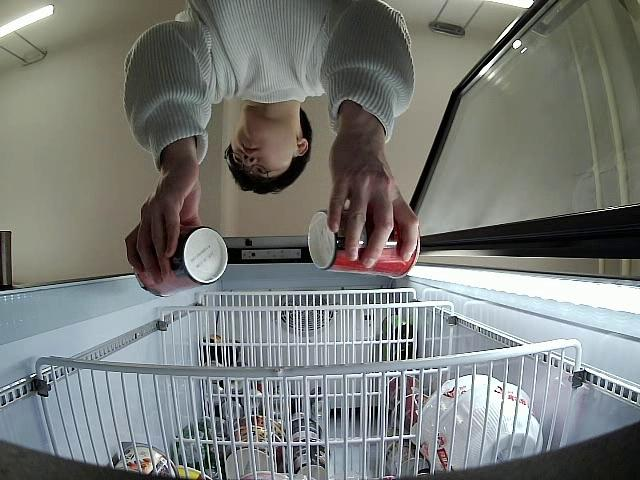00_hand: (326, 129, 420, 270), (124, 159, 201, 287)
02_shinRamen_S: (308, 211, 420, 279), (135, 227, 229, 298)
